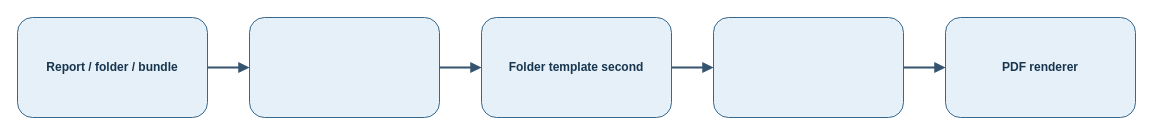
The diagram is 1153 pixels wide and 135 high, and some of its shapes have lost their labels. The centre of each missing label's shape, as x and y in pixels:
Root default fallback: the point at 808,67
Template lookup report first: the point at 344,67
